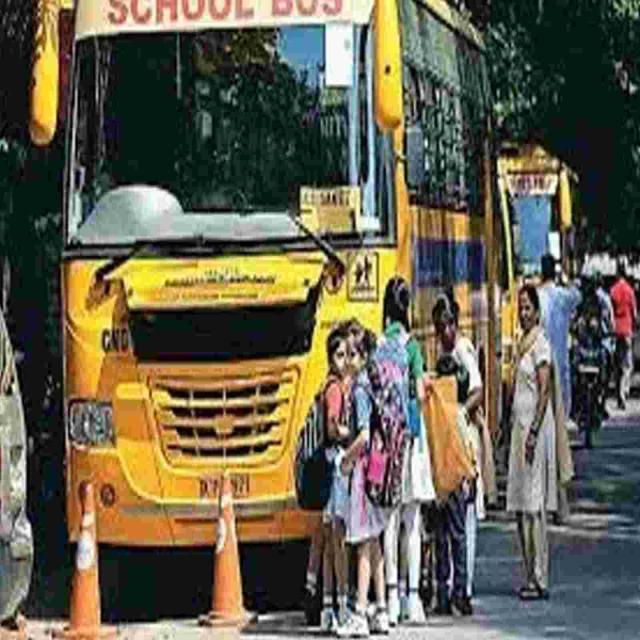bus: (61, 0, 498, 547)
